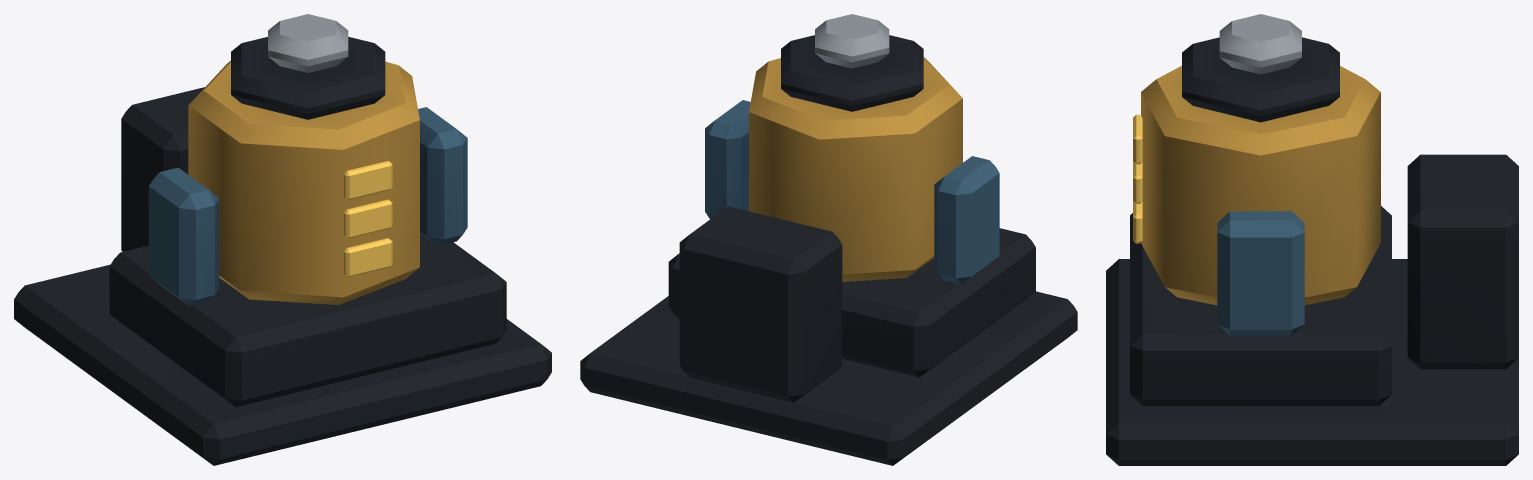
File: R4X_Battery_LOD1.glb
The picture shows the model from 3 angles, left to right: view 1: azimuth 30°, elevation 25°; view 2: azimuth 150°, elevation 25°; view 3: azimuth 270°, elevation 25°; orthographic projection. The views are drawn at different scales.
Parts seen in each view (by area): view 1: R4X_Battery_LOD1; view 2: R4X_Battery_LOD1; view 3: R4X_Battery_LOD1.
Part boxes in pixels (x1,y1,x2,y2): R4X_Battery_LOD1: [14, 14, 551, 465]; R4X_Battery_LOD1: [580, 14, 1077, 465]; R4X_Battery_LOD1: [1106, 14, 1518, 465].
Bounding box in the file's own units: 0.52 × 0.495 × 0.52.
